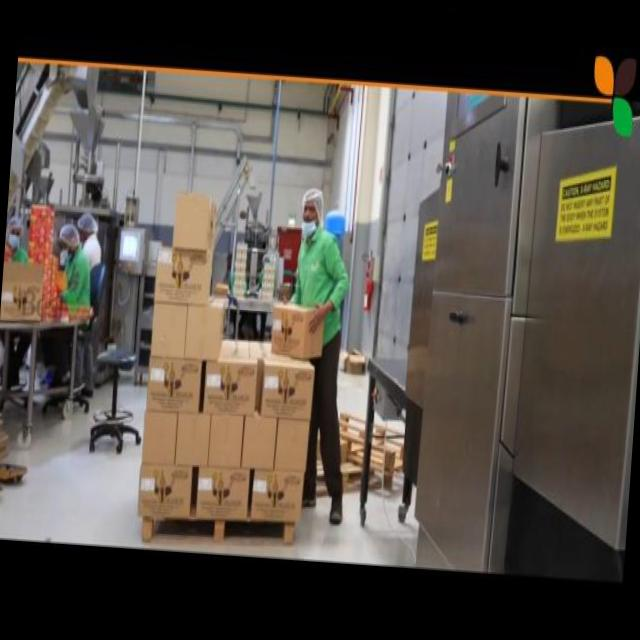hairnet: (302, 186, 328, 217), (58, 225, 80, 248), (79, 212, 101, 232)
